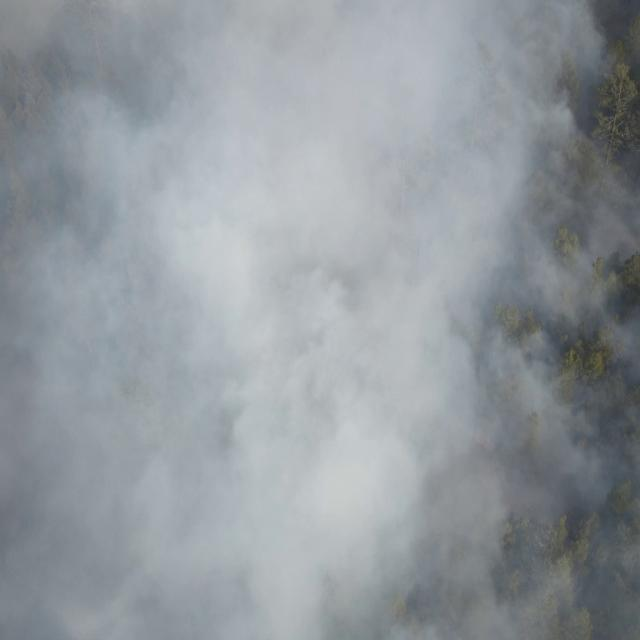fire: (474, 434, 494, 452)
smoke: (0, 0, 640, 640)
